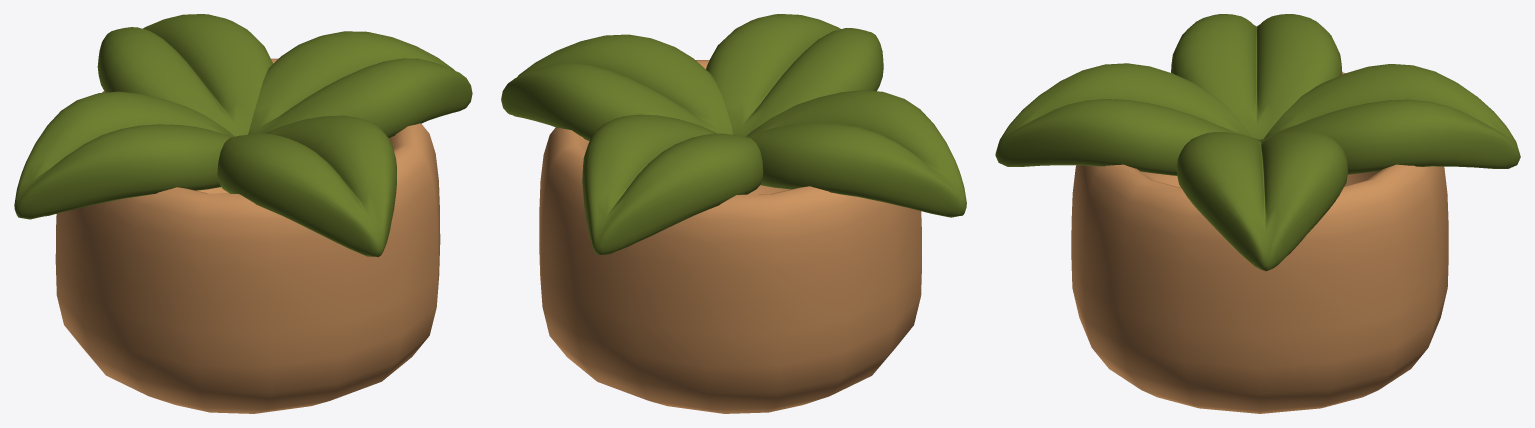
The model's file is plant4.glb.
3 renders of one model, left to right at view 1: azimuth 30°, elevation 25°; view 2: azimuth 150°, elevation 25°; view 3: azimuth 270°, elevation 25°, orthographic.
Visible parts, largest first — view 1: Cube.058, Plane.253, Plane.261, Plane.260, Plane.259; view 2: Cube.058, Plane.253, Plane.259, Plane.260, Plane.261; view 3: Cube.058, Plane.261, Plane.259, Plane.260, Plane.253.
Part boxes in pixels (<box>): Cube.058: <box>55,58,440,413</box>; Plane.253: <box>14,91,234,219</box>; Plane.261: <box>217,115,396,257</box>; Plane.260: <box>248,31,472,137</box>; Plane.259: <box>97,14,273,136</box>; Cube.058: <box>539,60,921,413</box>; Plane.253: <box>745,90,966,217</box>; Plane.259: <box>582,114,763,254</box>; Plane.260: <box>501,34,732,140</box>; Plane.261: <box>706,14,883,136</box>; Cube.058: <box>1071,72,1448,413</box>; Plane.261: <box>995,63,1250,175</box>; Plane.259: <box>1264,64,1520,174</box>; Plane.260: <box>1176,131,1347,271</box>; Plane.253: <box>1171,14,1342,139</box>.
Bounding box in the file's own units: 0.4888 × 0.2957 × 0.4888.
